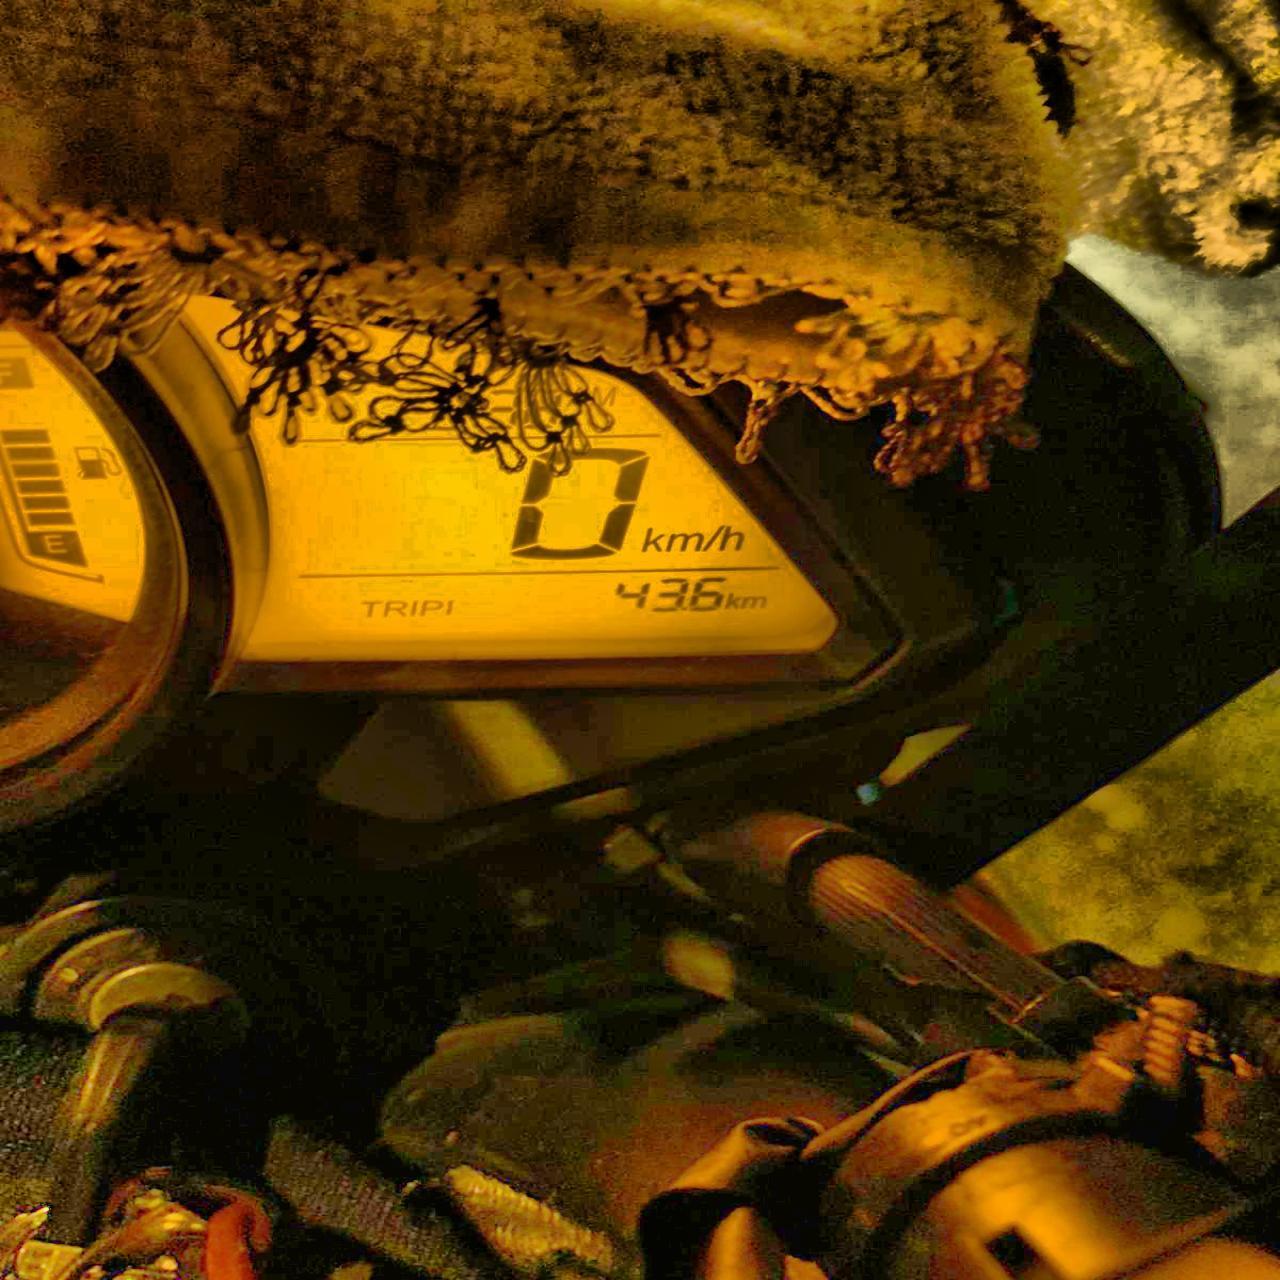-: (679, 606, 688, 613)
0: (517, 444, 646, 561)
1: (444, 594, 455, 617)
3: (654, 576, 687, 613)
4: (613, 579, 648, 610)
6: (692, 574, 727, 613)
X: (666, 530, 703, 552), (591, 381, 620, 404), (721, 522, 744, 551), (640, 525, 663, 553), (381, 597, 407, 619), (420, 594, 441, 620), (358, 595, 379, 619), (704, 523, 721, 550), (741, 595, 768, 611), (726, 592, 740, 611), (410, 595, 420, 619)
odometer: (128, 280, 874, 669)
